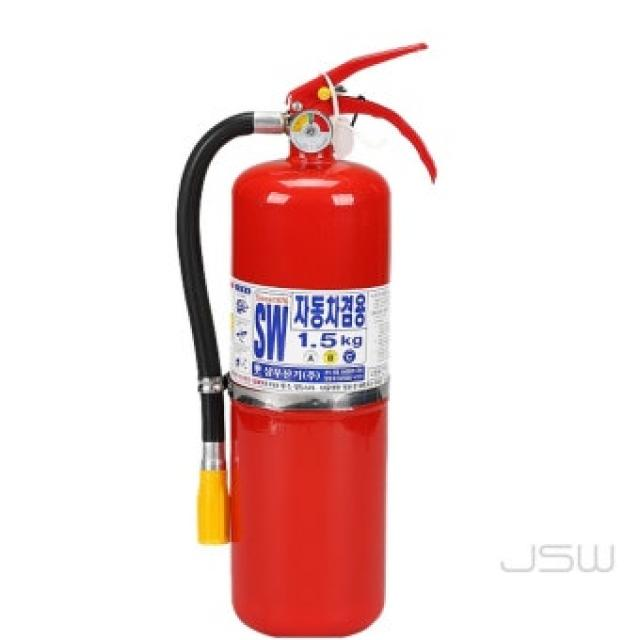pressure gauge: (290, 111, 329, 151)
